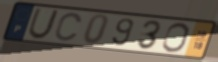0: (80, 13, 112, 47)
3: (135, 19, 163, 51)
9: (111, 18, 135, 47)
C: (53, 12, 84, 43)
O: (160, 22, 191, 54)
U: (26, 7, 61, 41)
